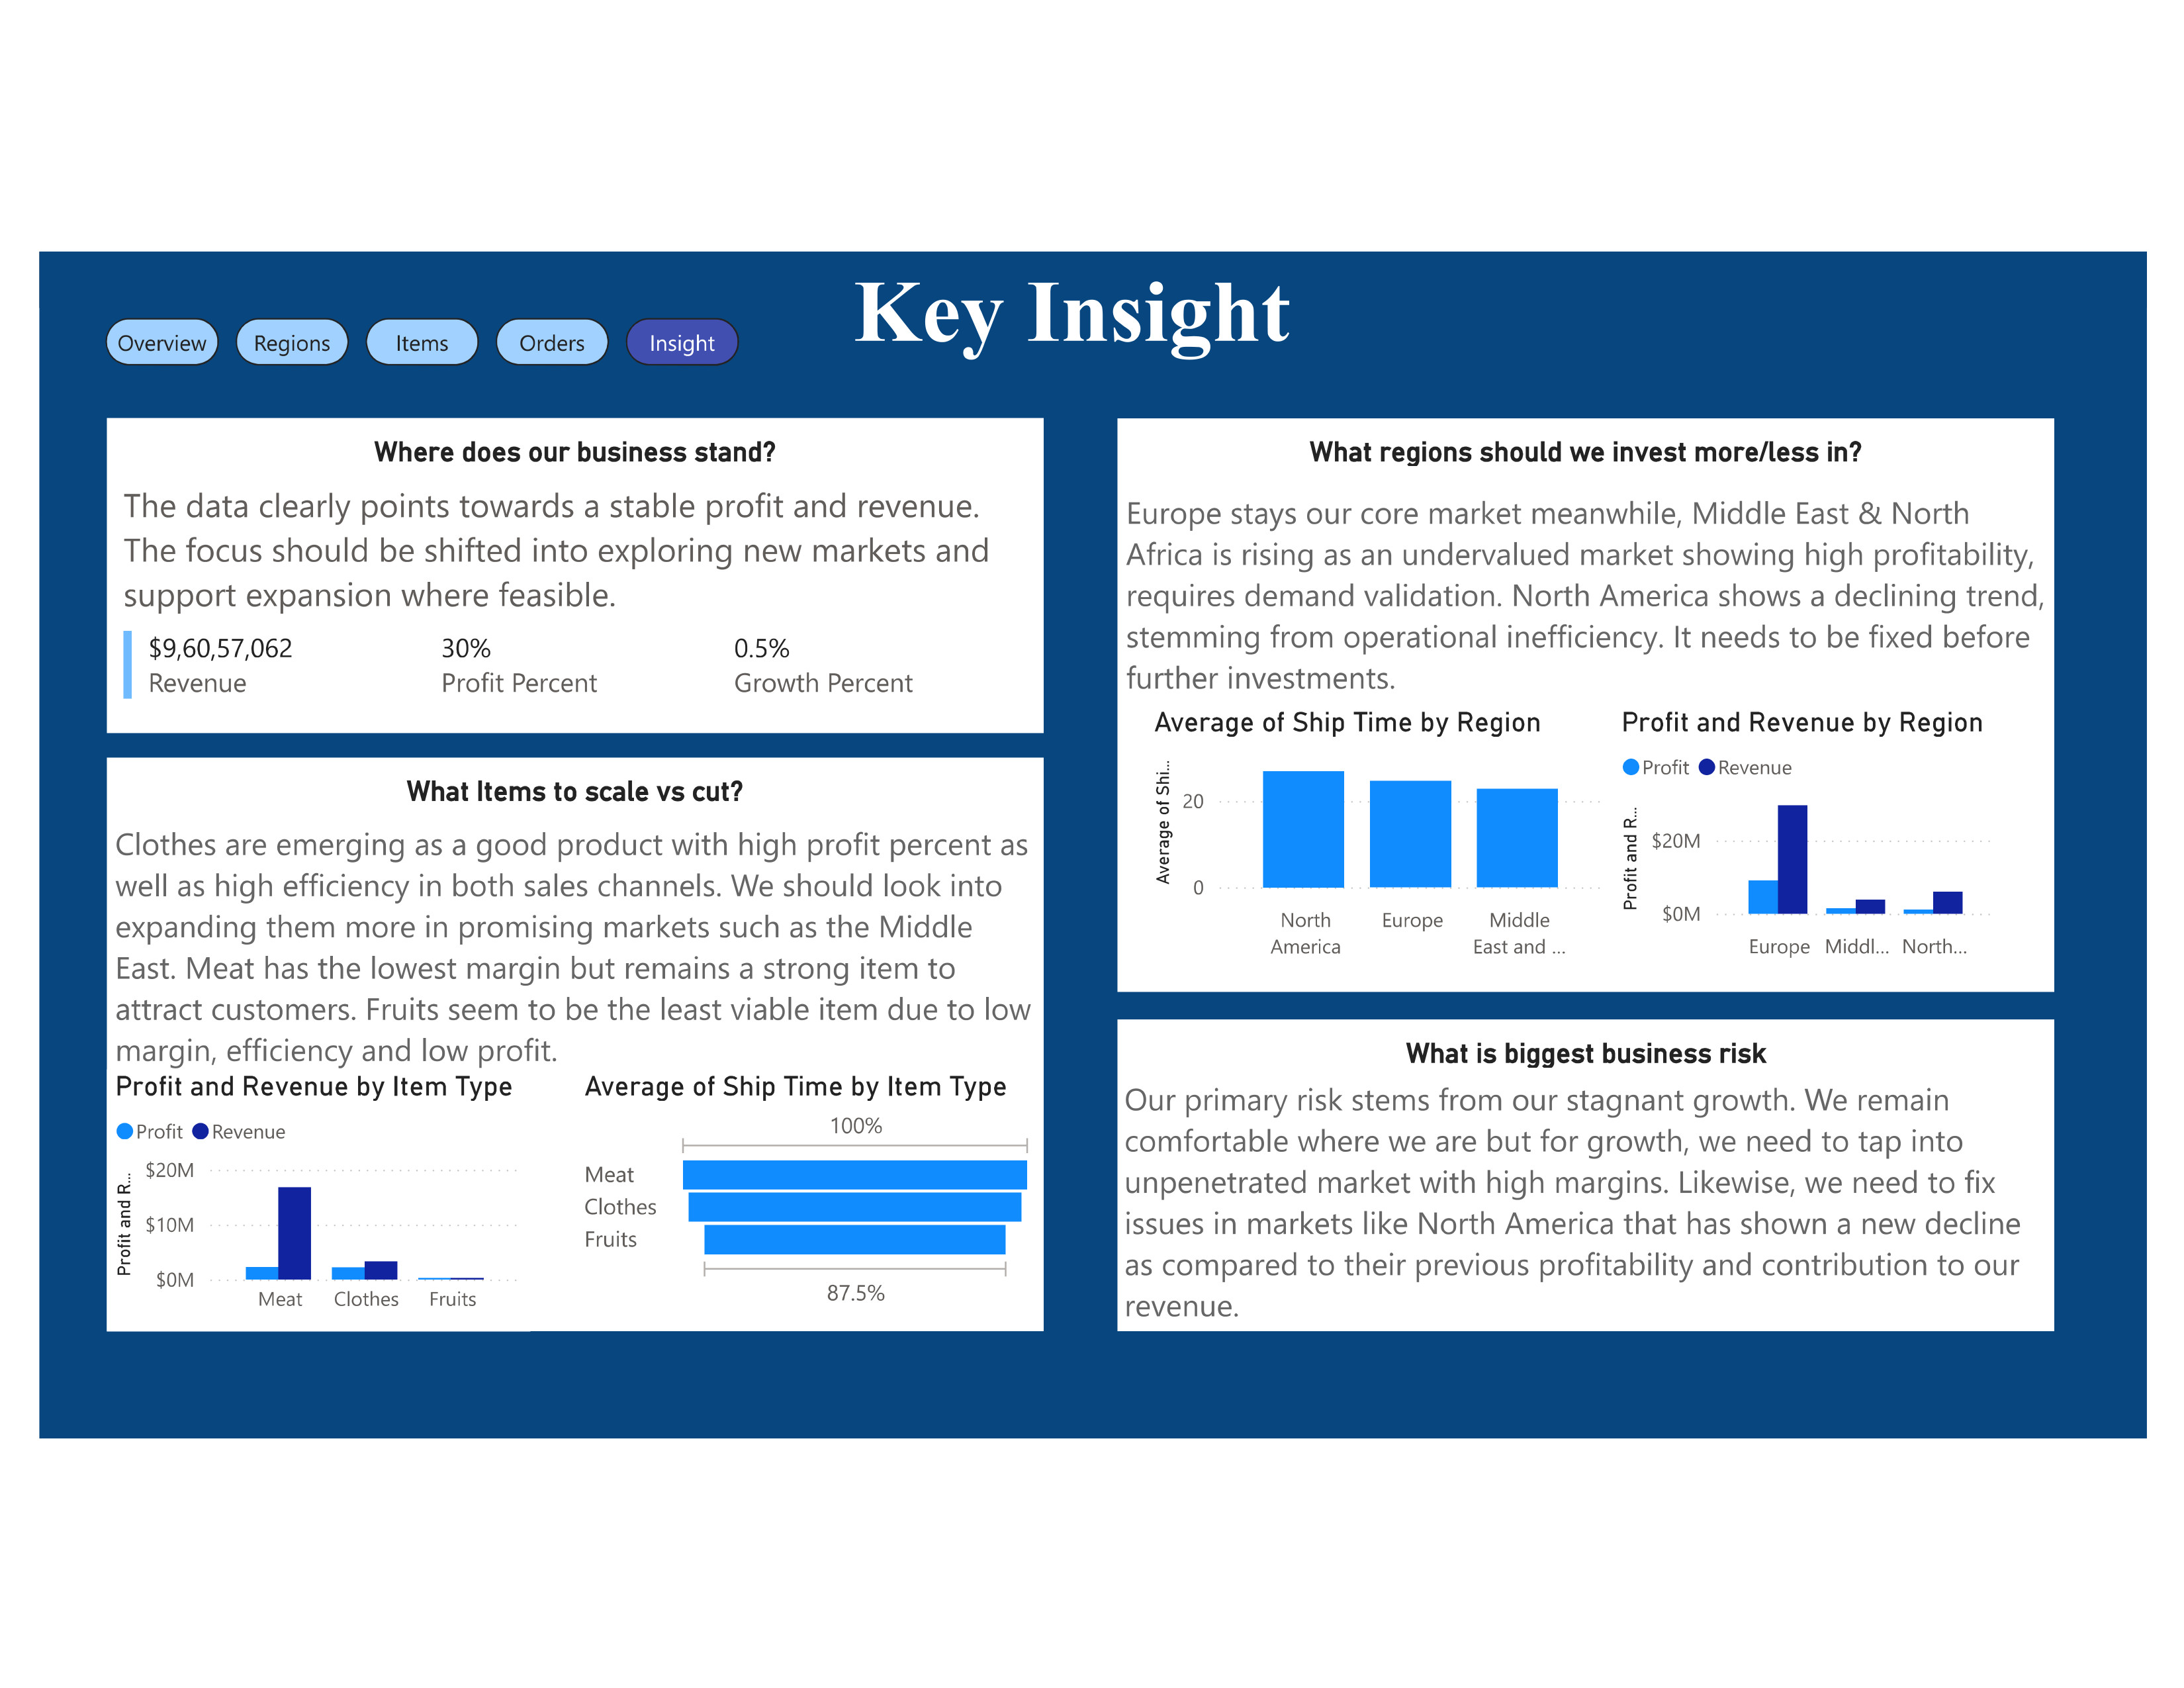

Layout of this report page (visuals, bound fields, positions):
{"tool":"powerbi","page":{"name":"Insight","canvas":[1280,720],"ordinal":4},"visuals":[{"type":"textbox","box":[456.5,0,341.8,100],"z":0},{"type":"pageNavigator","box":[40.5,40.5,385.7,28.6],"z":2000},{"type":"multiRowCard","title":"Where does our business stand?","fields":{"Values":["Records.Revenue","Records.Profit Percent","Records.Growth Percent"]},"box":[40.8,100.9,569,191.1],"z":3000},{"type":"kpi","title":"What regions should we invest more/less in?","fields":{"Indicator":["Records.Growth Percent"]},"box":[654.9,100.9,569,347.8],"z":4000},{"type":"textbox","box":[654.9,139.6,569,152.5],"z":5000},{"type":"lineClusteredColumnComboChart","fields":{"Category":["Country.Region"],"Y":["Avg(Orders.Ship Time)"]},"box":[672.1,274.8,283.4,163.2],"z":6000},{"type":"kpi","title":"What Items to scale vs cut?","fields":{"Indicator":["Records.Growth Percent"]},"box":[40.8,307,569,347.8],"z":7000},{"type":"textbox","box":[40.8,341.4,569,171.8],"z":8000},{"type":"clusteredColumnChart","fields":{"Category":["Country.Region"],"Y":["Records.Profit","Records.Revenue"]},"box":[955.5,274.8,238.3,163.2],"z":9000},{"type":"clusteredColumnChart","fields":{"Category":["Items.Item Type"],"Y":["Records.Profit","Records.Revenue"]},"box":[40.8,496,257.7,158.9],"z":10000},{"type":"funnel","fields":{"Y":["Avg(Orders.Ship Time)"],"Category":["Items.Item Type"]},"box":[326.4,496,283.4,150.3],"z":11000},{"type":"kpi","title":"What is biggest business risk","fields":{"Indicator":["Records.Growth Percent"]},"box":[654.9,465.9,569,189],"z":12000},{"type":"textbox","box":[654.5,496.1,569,160.5],"z":13000}]}

Visuals, with their boxes on the page's 1280x720 design canvas (x1, y1, x2, y2). These are canvas units, not pixel positions in the 2184x1688 screenshot, which may show the page scaled, cropped or inside an application window:
textbox: x1=456 y1=0 x2=798 y2=100
pageNavigator: x1=40 y1=40 x2=426 y2=69
"Where does our business stand?" multiRowCard: x1=41 y1=101 x2=610 y2=292
"What regions should we invest more/less in?" kpi: x1=655 y1=101 x2=1224 y2=449
textbox: x1=655 y1=140 x2=1224 y2=292
lineClusteredColumnComboChart - Country.Region x Avg(Orders.Ship Time): x1=672 y1=275 x2=956 y2=438
"What Items to scale vs cut?" kpi: x1=41 y1=307 x2=610 y2=655
textbox: x1=41 y1=341 x2=610 y2=513
clusteredColumnChart - Country.Region x Records.Profit: x1=956 y1=275 x2=1194 y2=438
clusteredColumnChart - Items.Item Type x Records.Profit: x1=41 y1=496 x2=298 y2=655
funnel - Avg(Orders.Ship Time) x Items.Item Type: x1=326 y1=496 x2=610 y2=646
"What is biggest business risk" kpi: x1=655 y1=466 x2=1224 y2=655
textbox: x1=654 y1=496 x2=1224 y2=657
